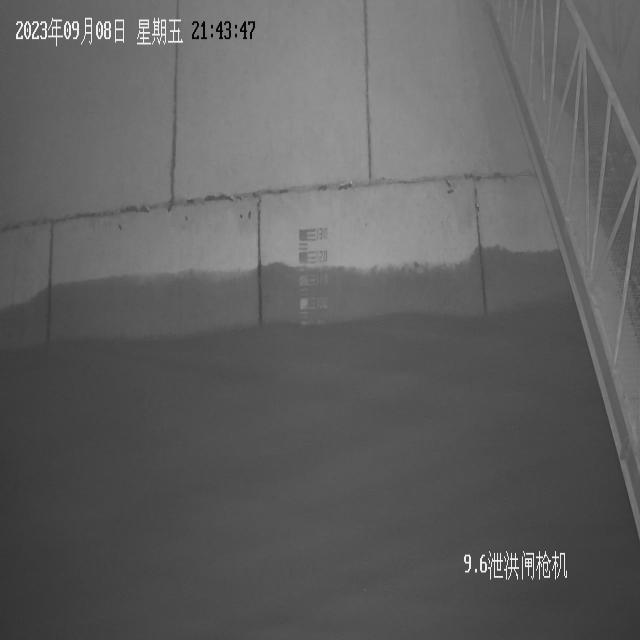ruler: (295, 225, 330, 317)
value: (316, 248, 329, 265), (316, 226, 328, 244), (316, 269, 328, 287), (315, 295, 329, 310)
